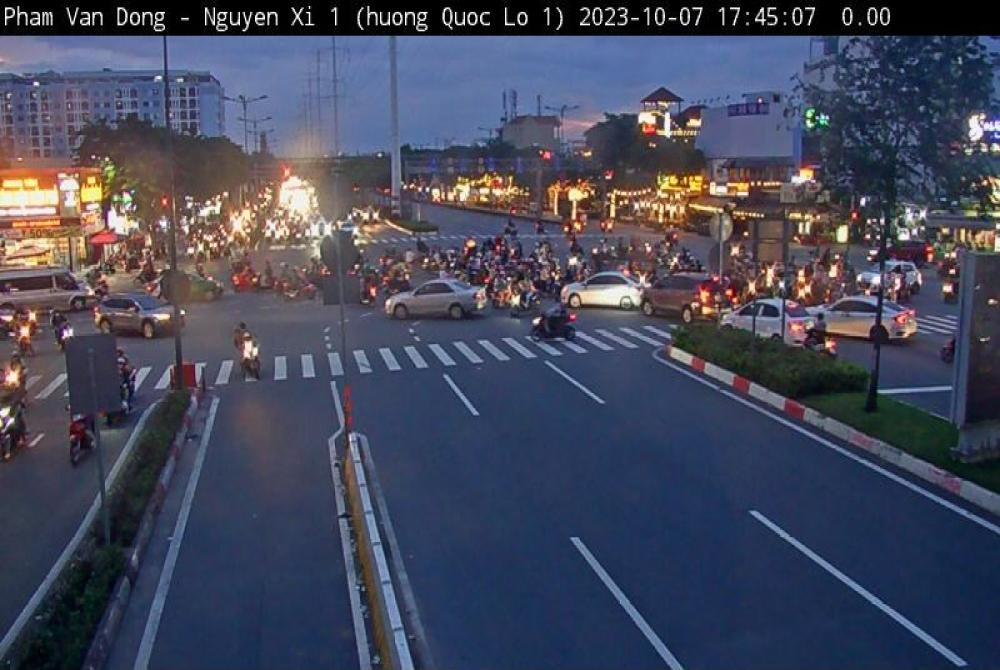car: (812, 297, 918, 344), (723, 298, 820, 348), (0, 265, 94, 312), (385, 281, 487, 320), (94, 295, 175, 339), (643, 277, 717, 322), (566, 276, 645, 312)
motorbike: (229, 313, 270, 394), (533, 301, 581, 340)
